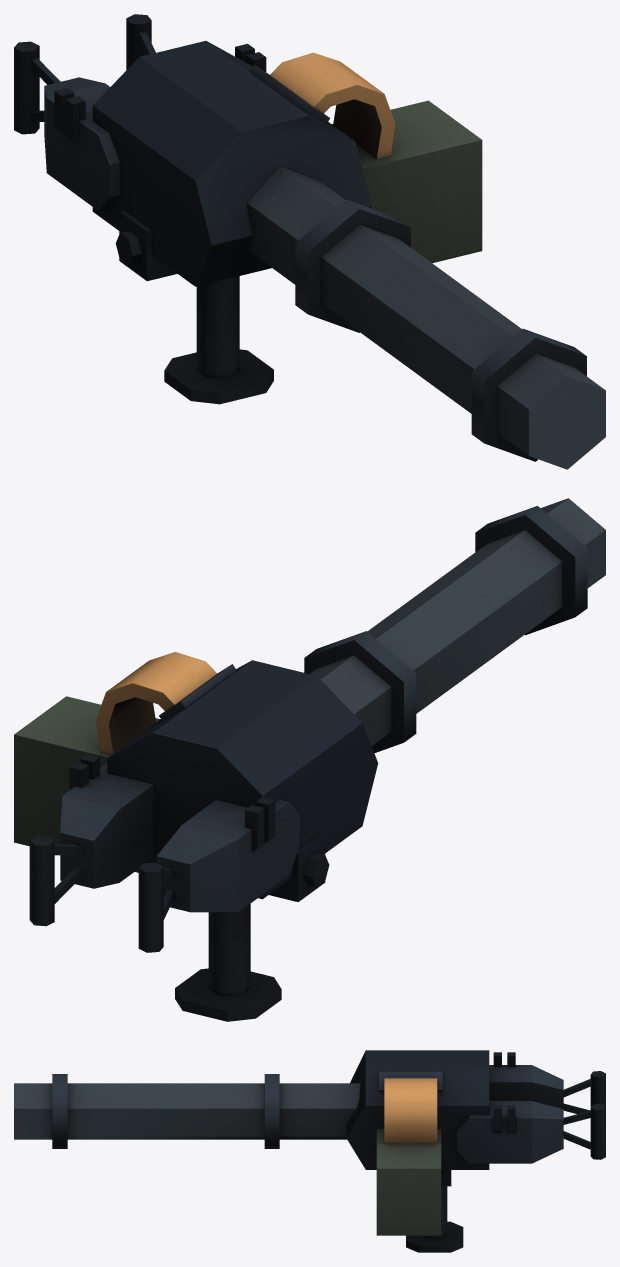
File: Weapon_v3.FBX
The picture shows the model from 3 angles, top to bottom: view 1: azimuth 30°, elevation 25°; view 2: azimuth 150°, elevation 25°; view 3: azimuth 270°, elevation 25°; orthographic projection. The views are drawn at different scales.
Visible parts, largest first — view 1: Weapon_v3; view 2: Weapon_v3; view 3: Weapon_v3.
Part boxes in pixels (x1,y1,x2,y2): Weapon_v3: [14, 14, 605, 469]; Weapon_v3: [14, 498, 605, 1021]; Weapon_v3: [14, 1050, 605, 1252].
Bounding box in the file's own units: 0.7947 × 0.738 × 2.17.
